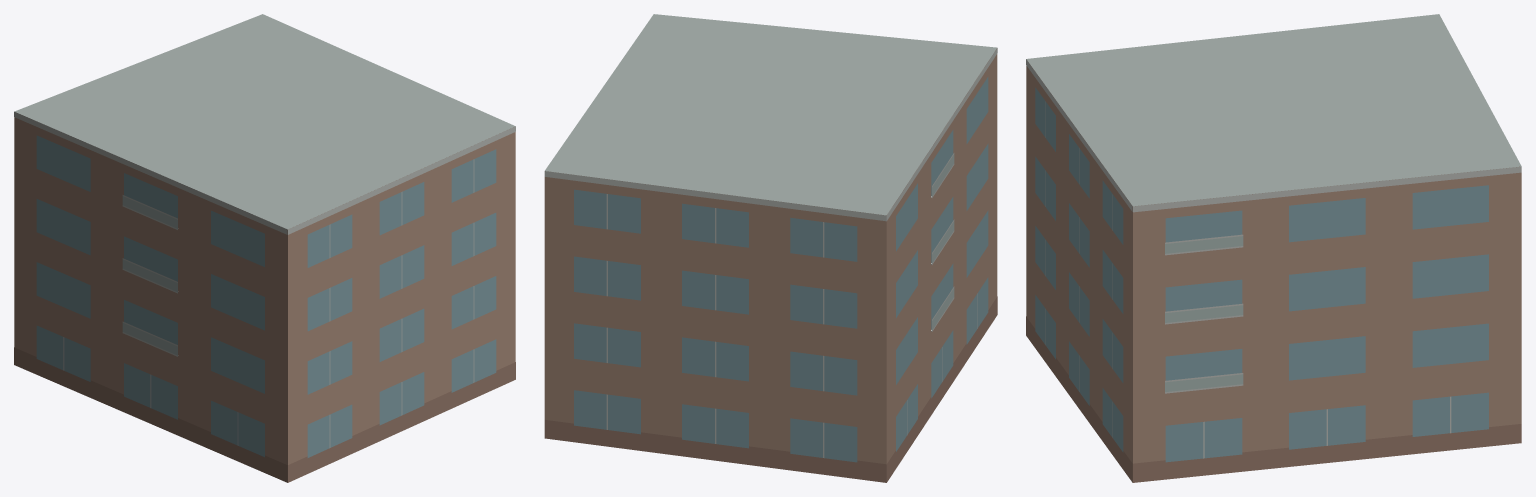
Rendered from survey-upis-32936503.glb.
3 renders of one model, left to right at view 1: azimuth 30°, elevation 25°; view 2: azimuth 150°, elevation 25°; view 3: azimuth 270°, elevation 25°, orthographic. The views are drawn at different scales.
Parts seen in each view (by area): view 1: survey-upis-32936503.tmp; view 2: survey-upis-32936503.tmp; view 3: survey-upis-32936503.tmp.
Part boxes in pixels (left/top/right/bottom): survey-upis-32936503.tmp: left=14, top=14, right=515, bottom=482; survey-upis-32936503.tmp: left=544, top=14, right=997, bottom=482; survey-upis-32936503.tmp: left=1026, top=14, right=1521, bottom=482.
Bounding box in the file's own units: 16.64 × 11.15 × 18.12.
